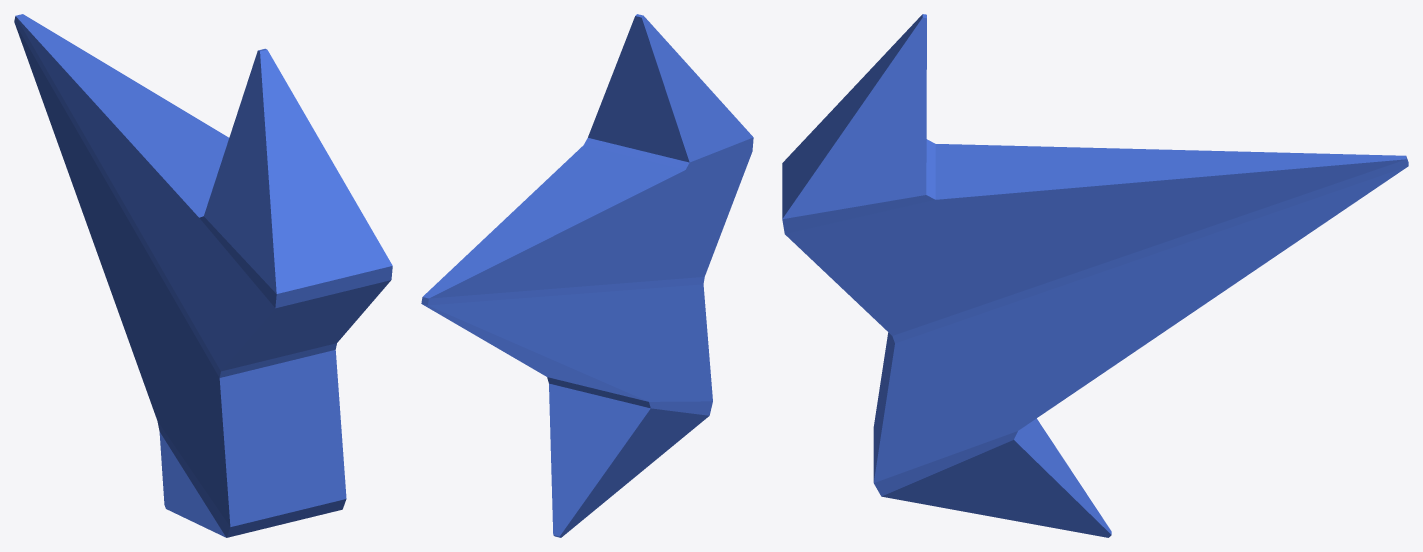
The model's file is Starfragment2.fbx.
3 renders of one model, left to right at view 1: azimuth 30°, elevation 25°; view 2: azimuth 150°, elevation 25°; view 3: azimuth 270°, elevation 25°, orthographic. The views are drawn at different scales.
Visible parts, largest first — view 1: Cube.003; view 2: Cube.003; view 3: Cube.003.
Boxes of the visible parts, bbox=[...] form: Cube.003: bbox=[14, 14, 392, 537]; Cube.003: bbox=[421, 14, 753, 537]; Cube.003: bbox=[782, 14, 1408, 537].
Bounding box in the file's own units: 42.51 × 184 × 201.
